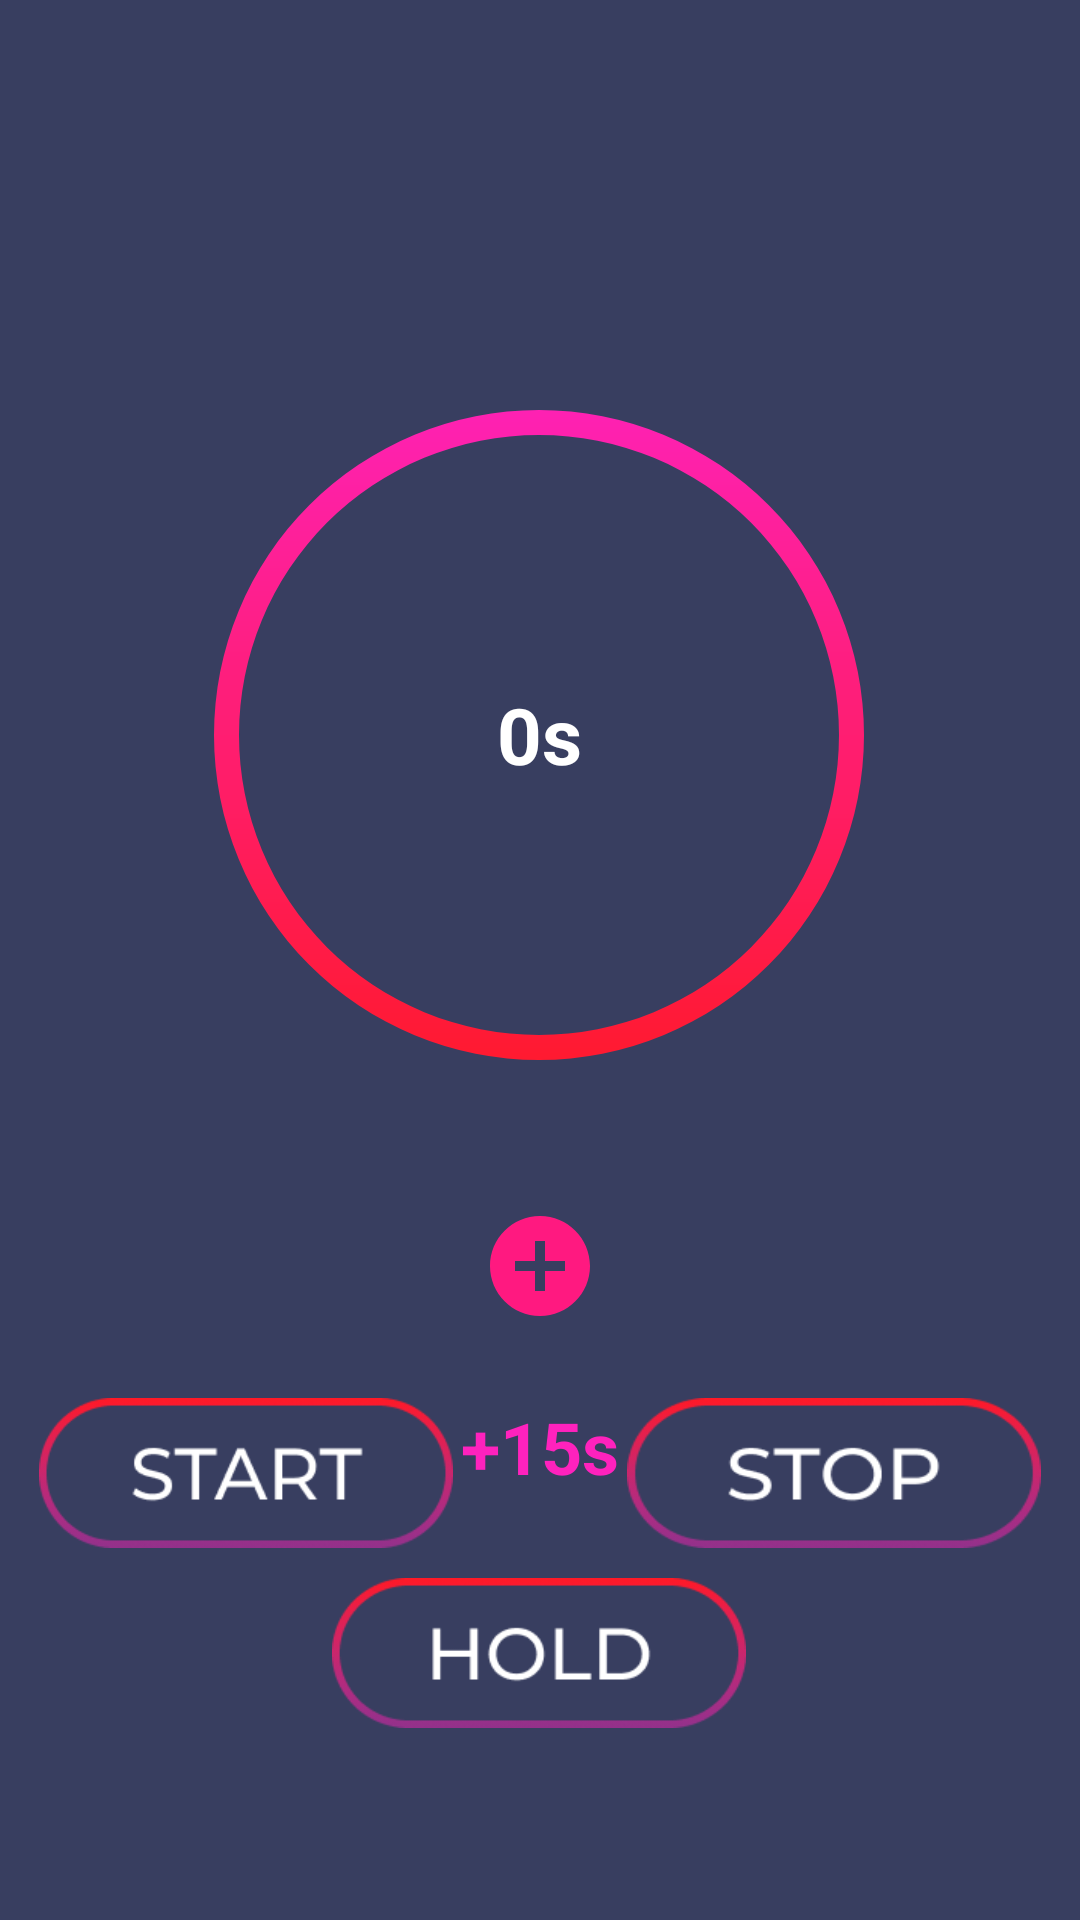

Icon bounding boxes for this 1080*1920 phone screenshot, format (x1, y1, x2, y2):
add circle: (490, 1216, 590, 1316)
